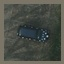car: (17, 24, 50, 45)
